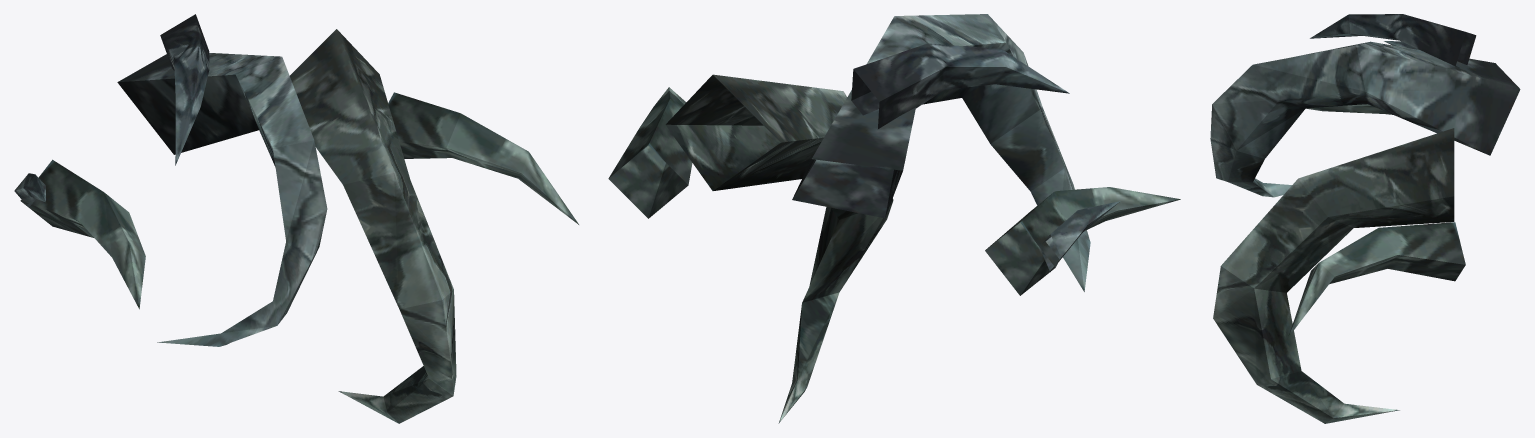
The model's file is juqing_fuben_253_common_weilong_02.obj.
3 views of the same model, side by side, from view 1: azimuth 30°, elevation 25°; view 2: azimuth 150°, elevation 25°; view 3: azimuth 270°, elevation 25° (orthographic). The views are drawn at different scales.
Visible parts, largest first — view 1: juqing_fuben_253_Common_weilong_02; view 2: juqing_fuben_253_Common_weilong_02; view 3: juqing_fuben_253_Common_weilong_02.
Part boxes in pixels (x1,y1,x2,y2): juqing_fuben_253_Common_weilong_02: [14, 14, 578, 423]; juqing_fuben_253_Common_weilong_02: [608, 14, 1180, 423]; juqing_fuben_253_Common_weilong_02: [1210, 14, 1520, 423].
Size of the model in its own units: 193 by 149 by 122.
Materials: 1 (1 with a texture image).
